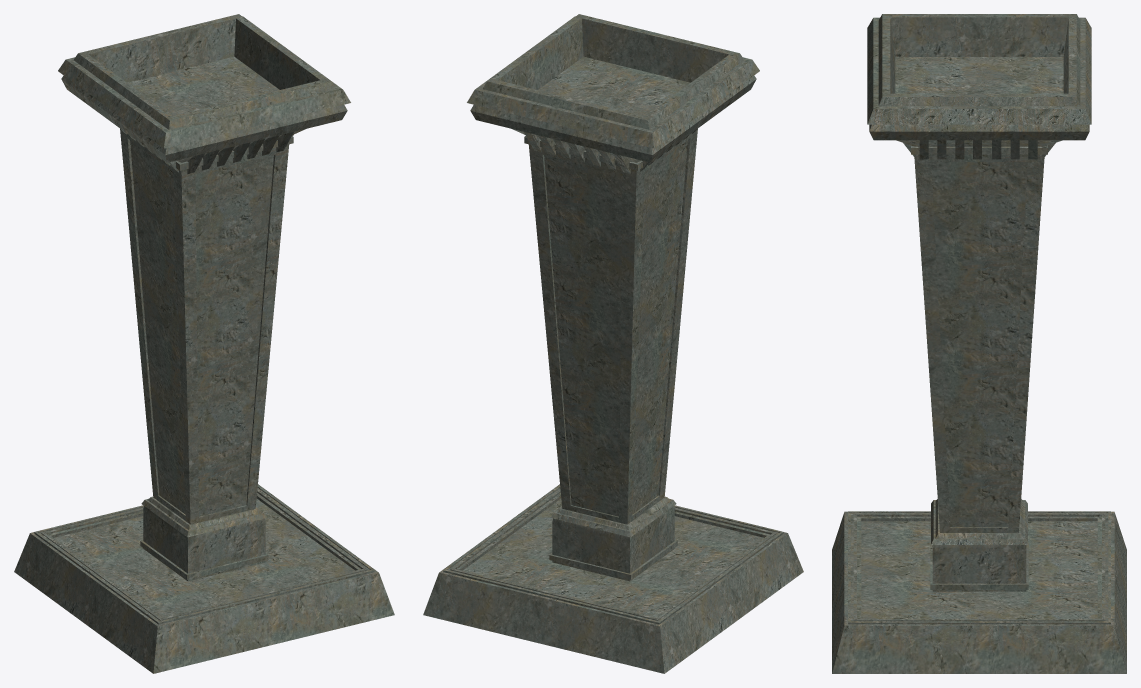
The model's file is objPillar.obj.
The picture shows the model from 3 angles, left to right: view 1: azimuth 30°, elevation 25°; view 2: azimuth 150°, elevation 25°; view 3: azimuth 270°, elevation 25°; orthographic projection. The views are drawn at different scales.
Parts seen in each view (by area): view 1: pillar_urn1; view 2: pillar_urn1; view 3: pillar_urn1.
Boxes of the visible parts, x1=… form: pillar_urn1: x1=14, y1=14, x2=394, y2=673; pillar_urn1: x1=423, y1=14, x2=803, y2=673; pillar_urn1: x1=832, y1=14, x2=1126, y2=673.
Size of the model in its own units: 12.92 by 26.9 by 12.92.
